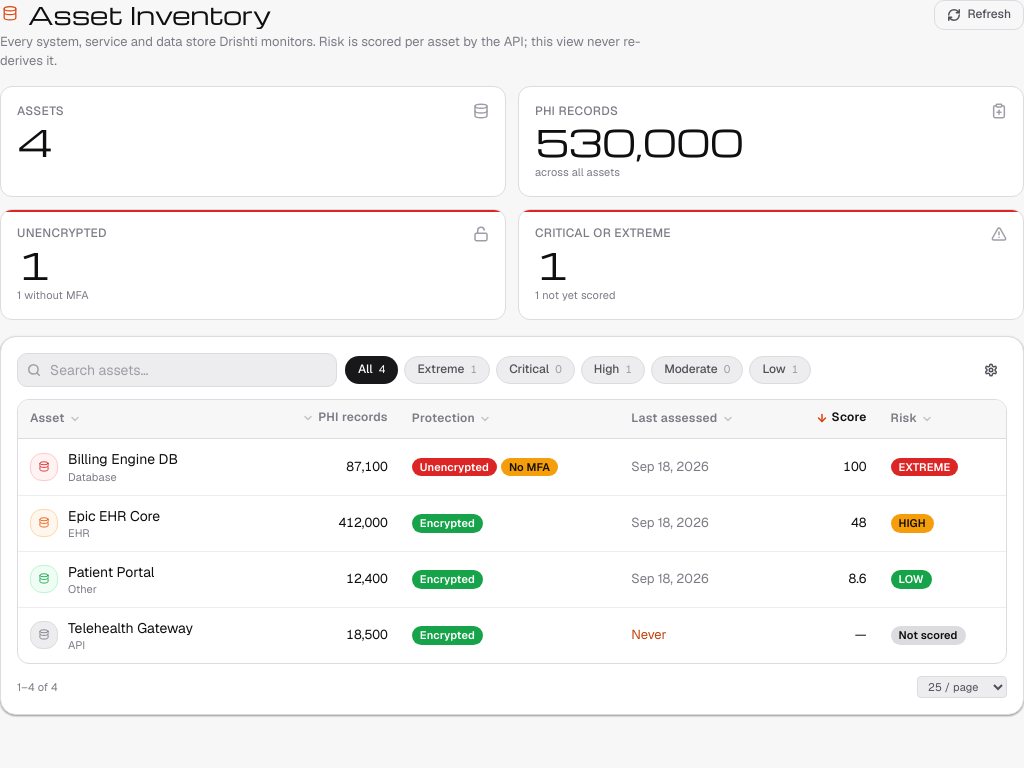
Test case: Asset detail › shows the identities that can reach the asset
Expected: the text "Billing Engine DB" is shown, [68,450,178,470]
Click the button with test id "row-1" at (512, 467), box [18,440,1006,495]
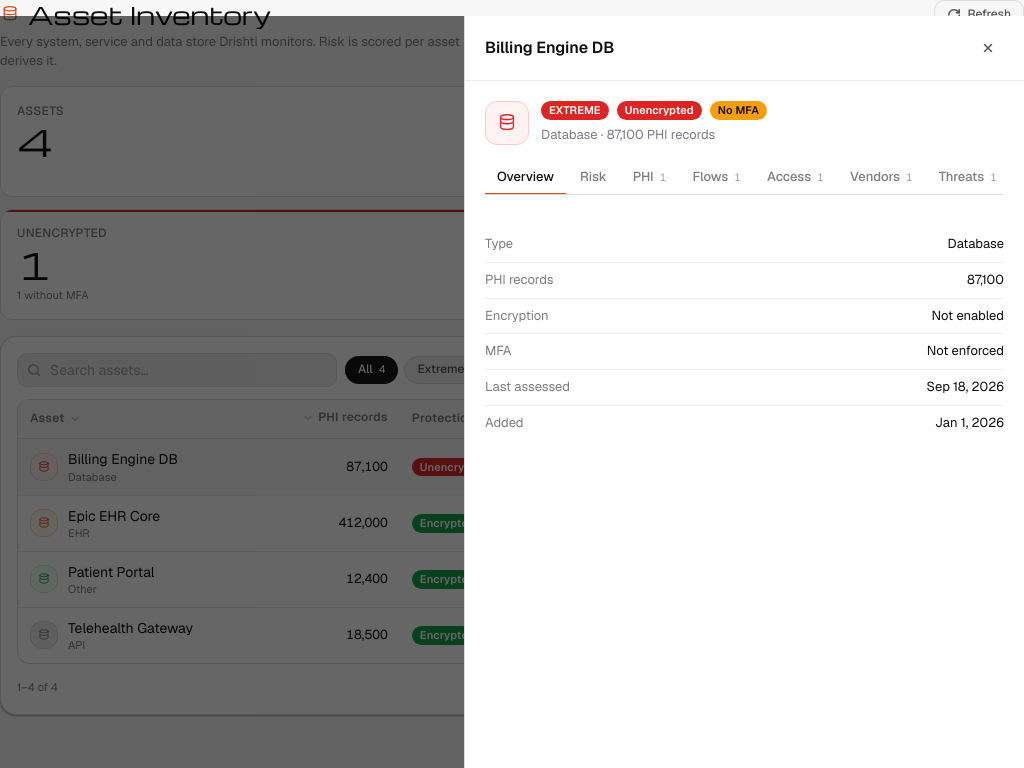
Expected: the tab "Overview" is shown, [485,161,566,194]
Click the tab "Access1" at (795, 177), box [755,161,836,194]
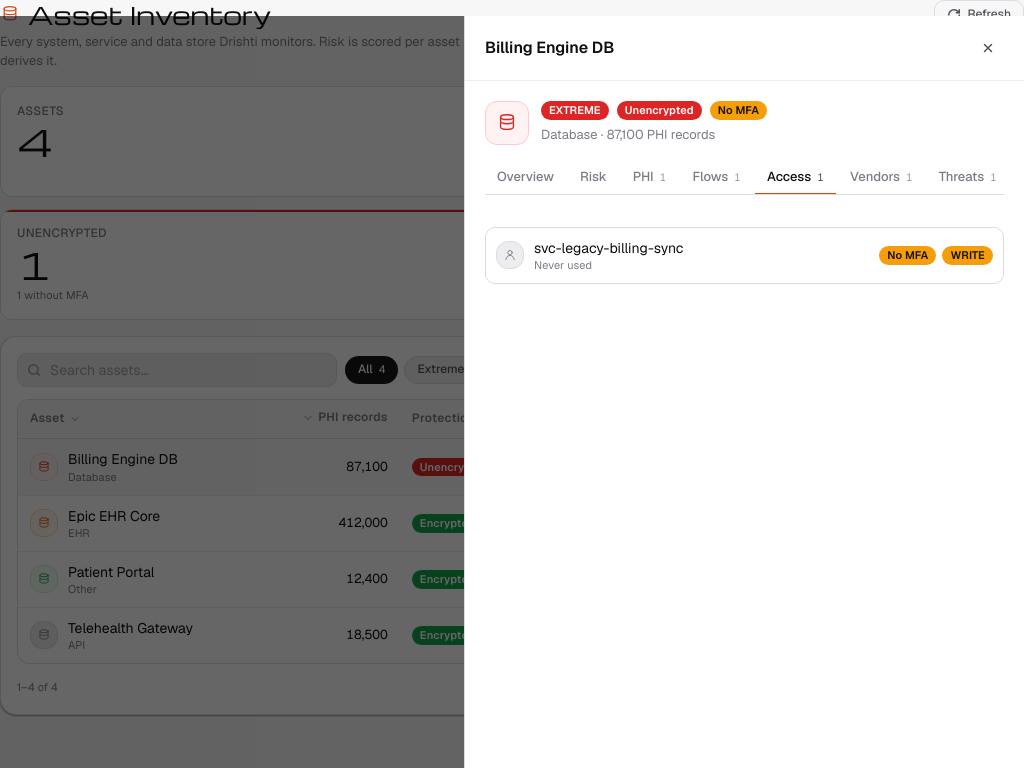
Expected: the text "svc-legacy-billing-sync" is shown, [534,238,684,258]
Expected: the text "Never used" is shown, [534,258,592,272]
